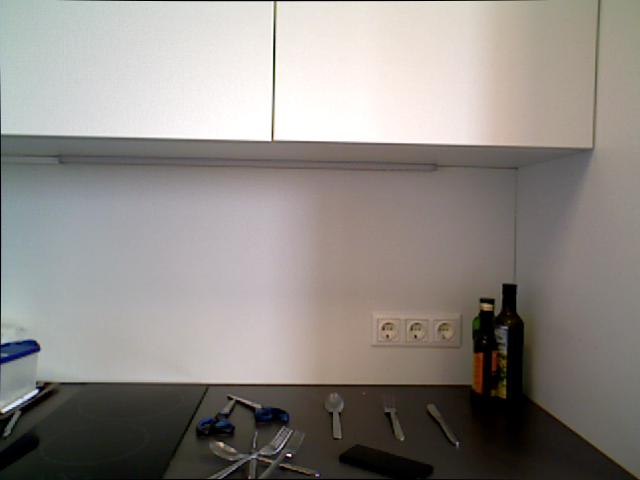bench: (493, 282, 524, 403), (471, 297, 498, 402)
cake: (226, 390, 291, 430), (193, 395, 239, 438)
cup: (421, 393, 462, 451), (245, 425, 262, 480)
sports ball: (204, 424, 294, 480), (249, 426, 310, 480), (376, 386, 409, 443)
toilet: (204, 438, 322, 479), (322, 387, 350, 442)
